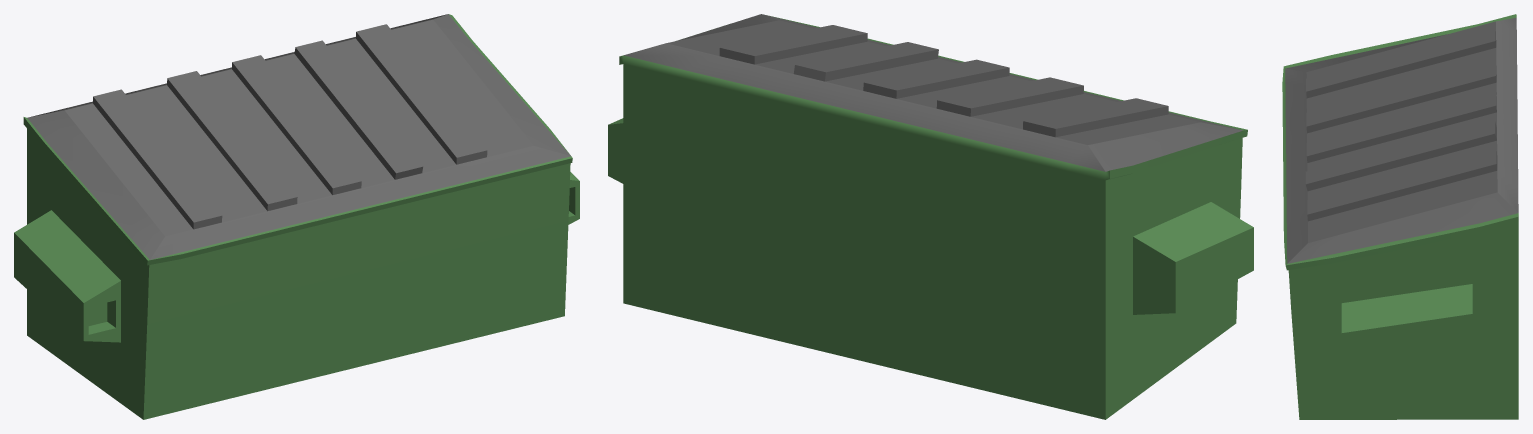
Rendered from Dumpster.fbx.
3 views of the same model, side by side, from view 1: azimuth 30°, elevation 25°; view 2: azimuth 150°, elevation 25°; view 3: azimuth 270°, elevation 25° (orthographic). The views are drawn at different scales.
Parts seen in each view (by area): view 1: pCube1; view 2: pCube1; view 3: pCube1.
Boxes of the visible parts, <box> form: pCube1: <box>14,14,579,419</box>; pCube1: <box>608,14,1253,419</box>; pCube1: <box>1282,14,1518,419</box>.
Size of the model in its own units: 127 by 57.06 by 55.
